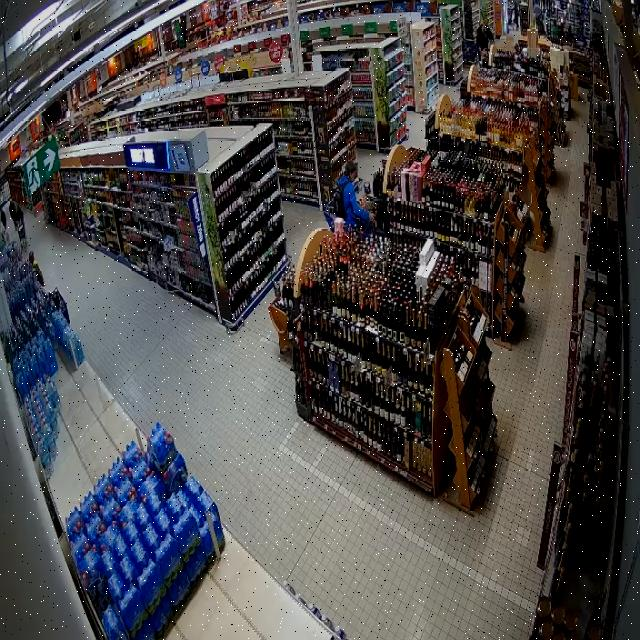article: (372, 202, 378, 227)
bags: (333, 184, 346, 218)
hands: (370, 212, 376, 224)
person: (336, 162, 375, 226), (29, 252, 44, 286)
